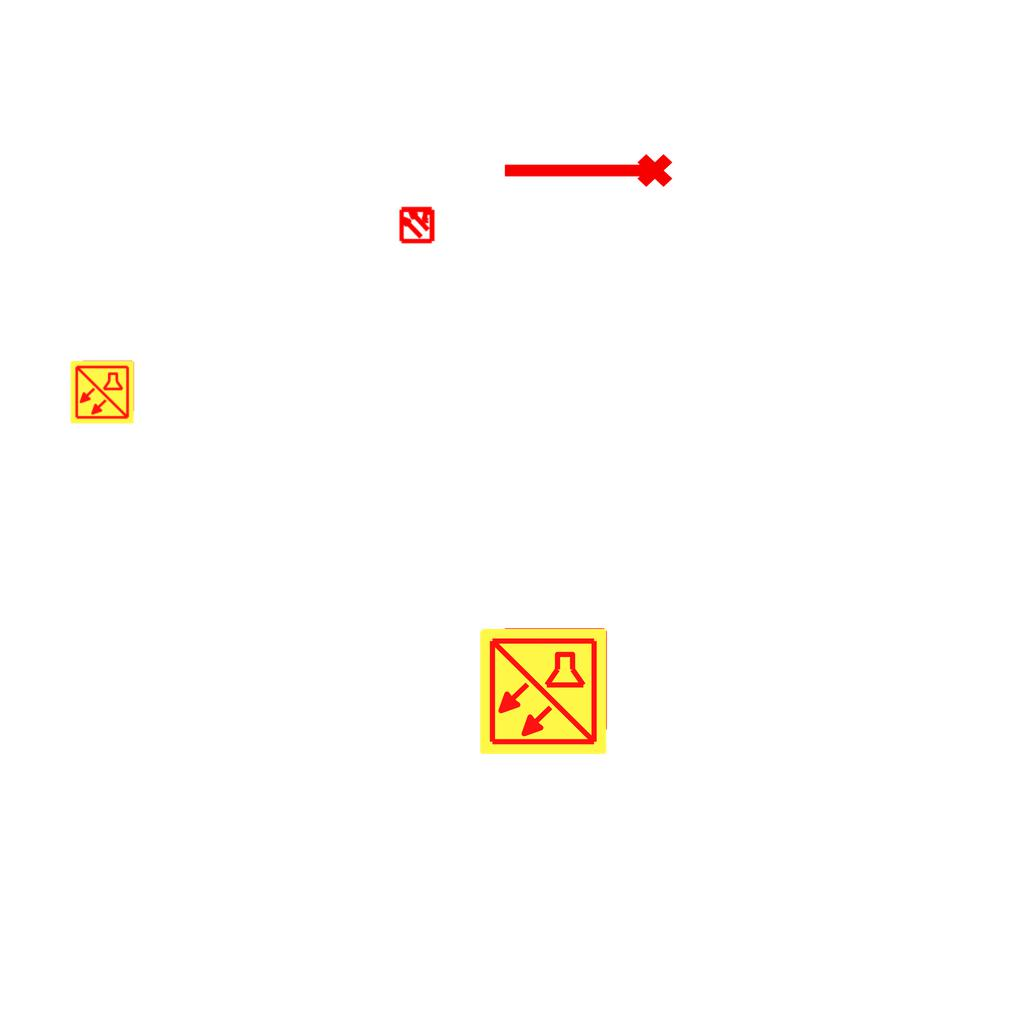ASR_Ansaugoeffnung: (499, 150, 675, 196)
OKW_Multisensormelder_(Kombination_optischer_Rauch-Kahlenmonoxid_Waerme-Melder): (477, 625, 609, 757), (69, 359, 135, 425)
OT_Multisensormelder_(Kombination_RMO_WMD): (389, 196, 445, 252)
